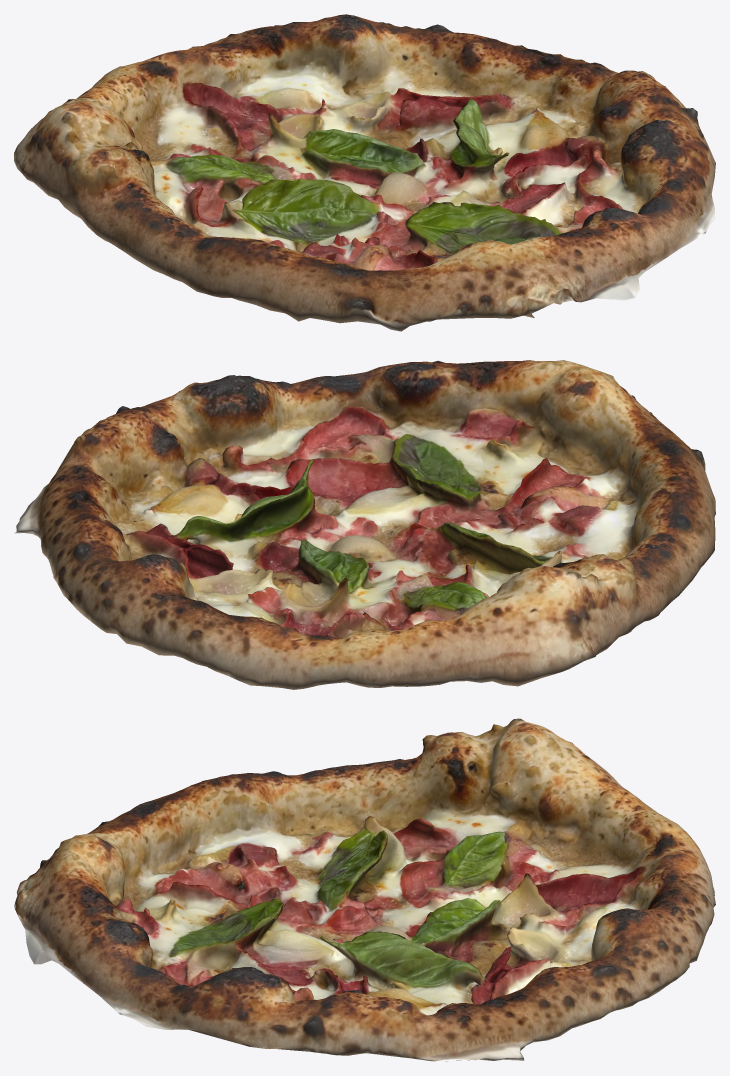
Rendered from kaburgali.glb.
3 views of the same model, one above another, from view 1: azimuth 30°, elevation 25°; view 2: azimuth 150°, elevation 25°; view 3: azimuth 270°, elevation 25° (orthographic). The views are drawn at different scales.
Bounding box in the file's own units: 0.9231 × 0.1617 × 0.9871.
1 material, 1 textured.
